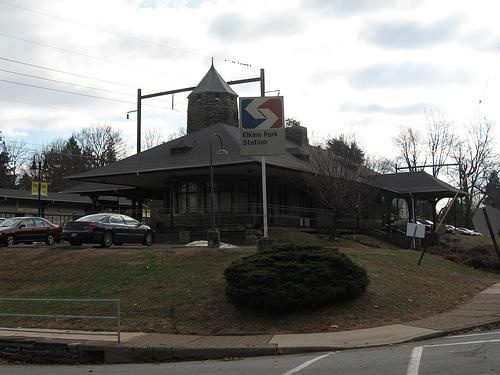car: (62, 213, 156, 248), (1, 216, 62, 246)
